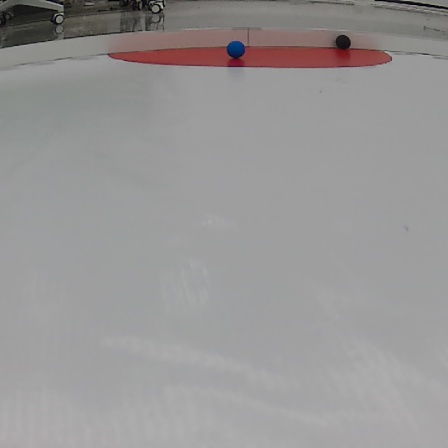black: (334, 32, 355, 50)
blue: (226, 39, 246, 60)
red_base: (104, 43, 395, 69)
